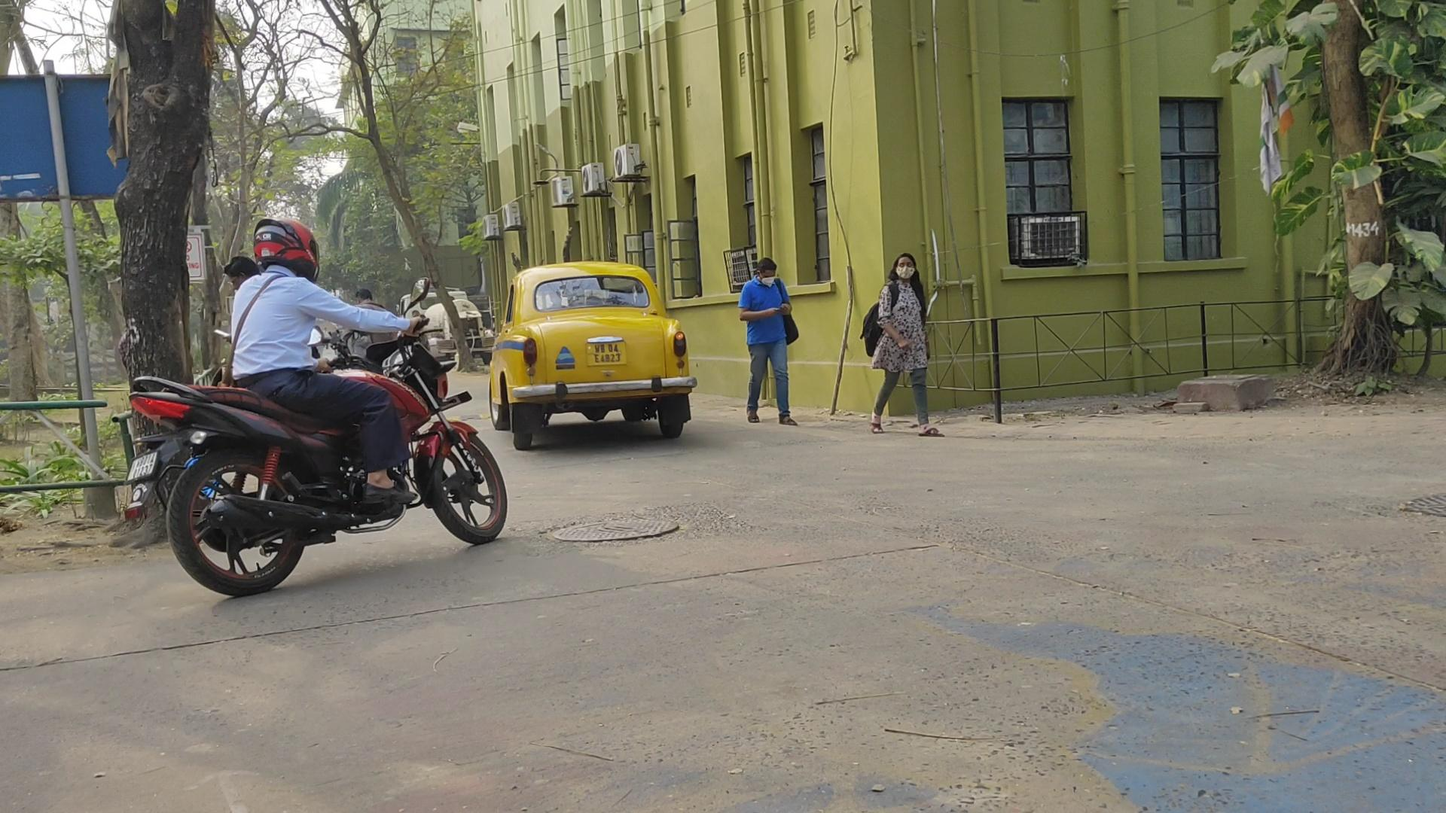bike: (125, 216, 508, 598)
car: (487, 260, 697, 452)
